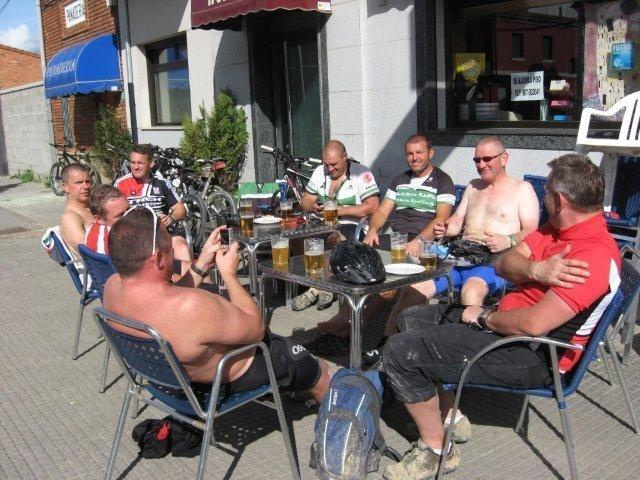non-vehicle: (259, 141, 325, 213), (47, 141, 102, 194)
